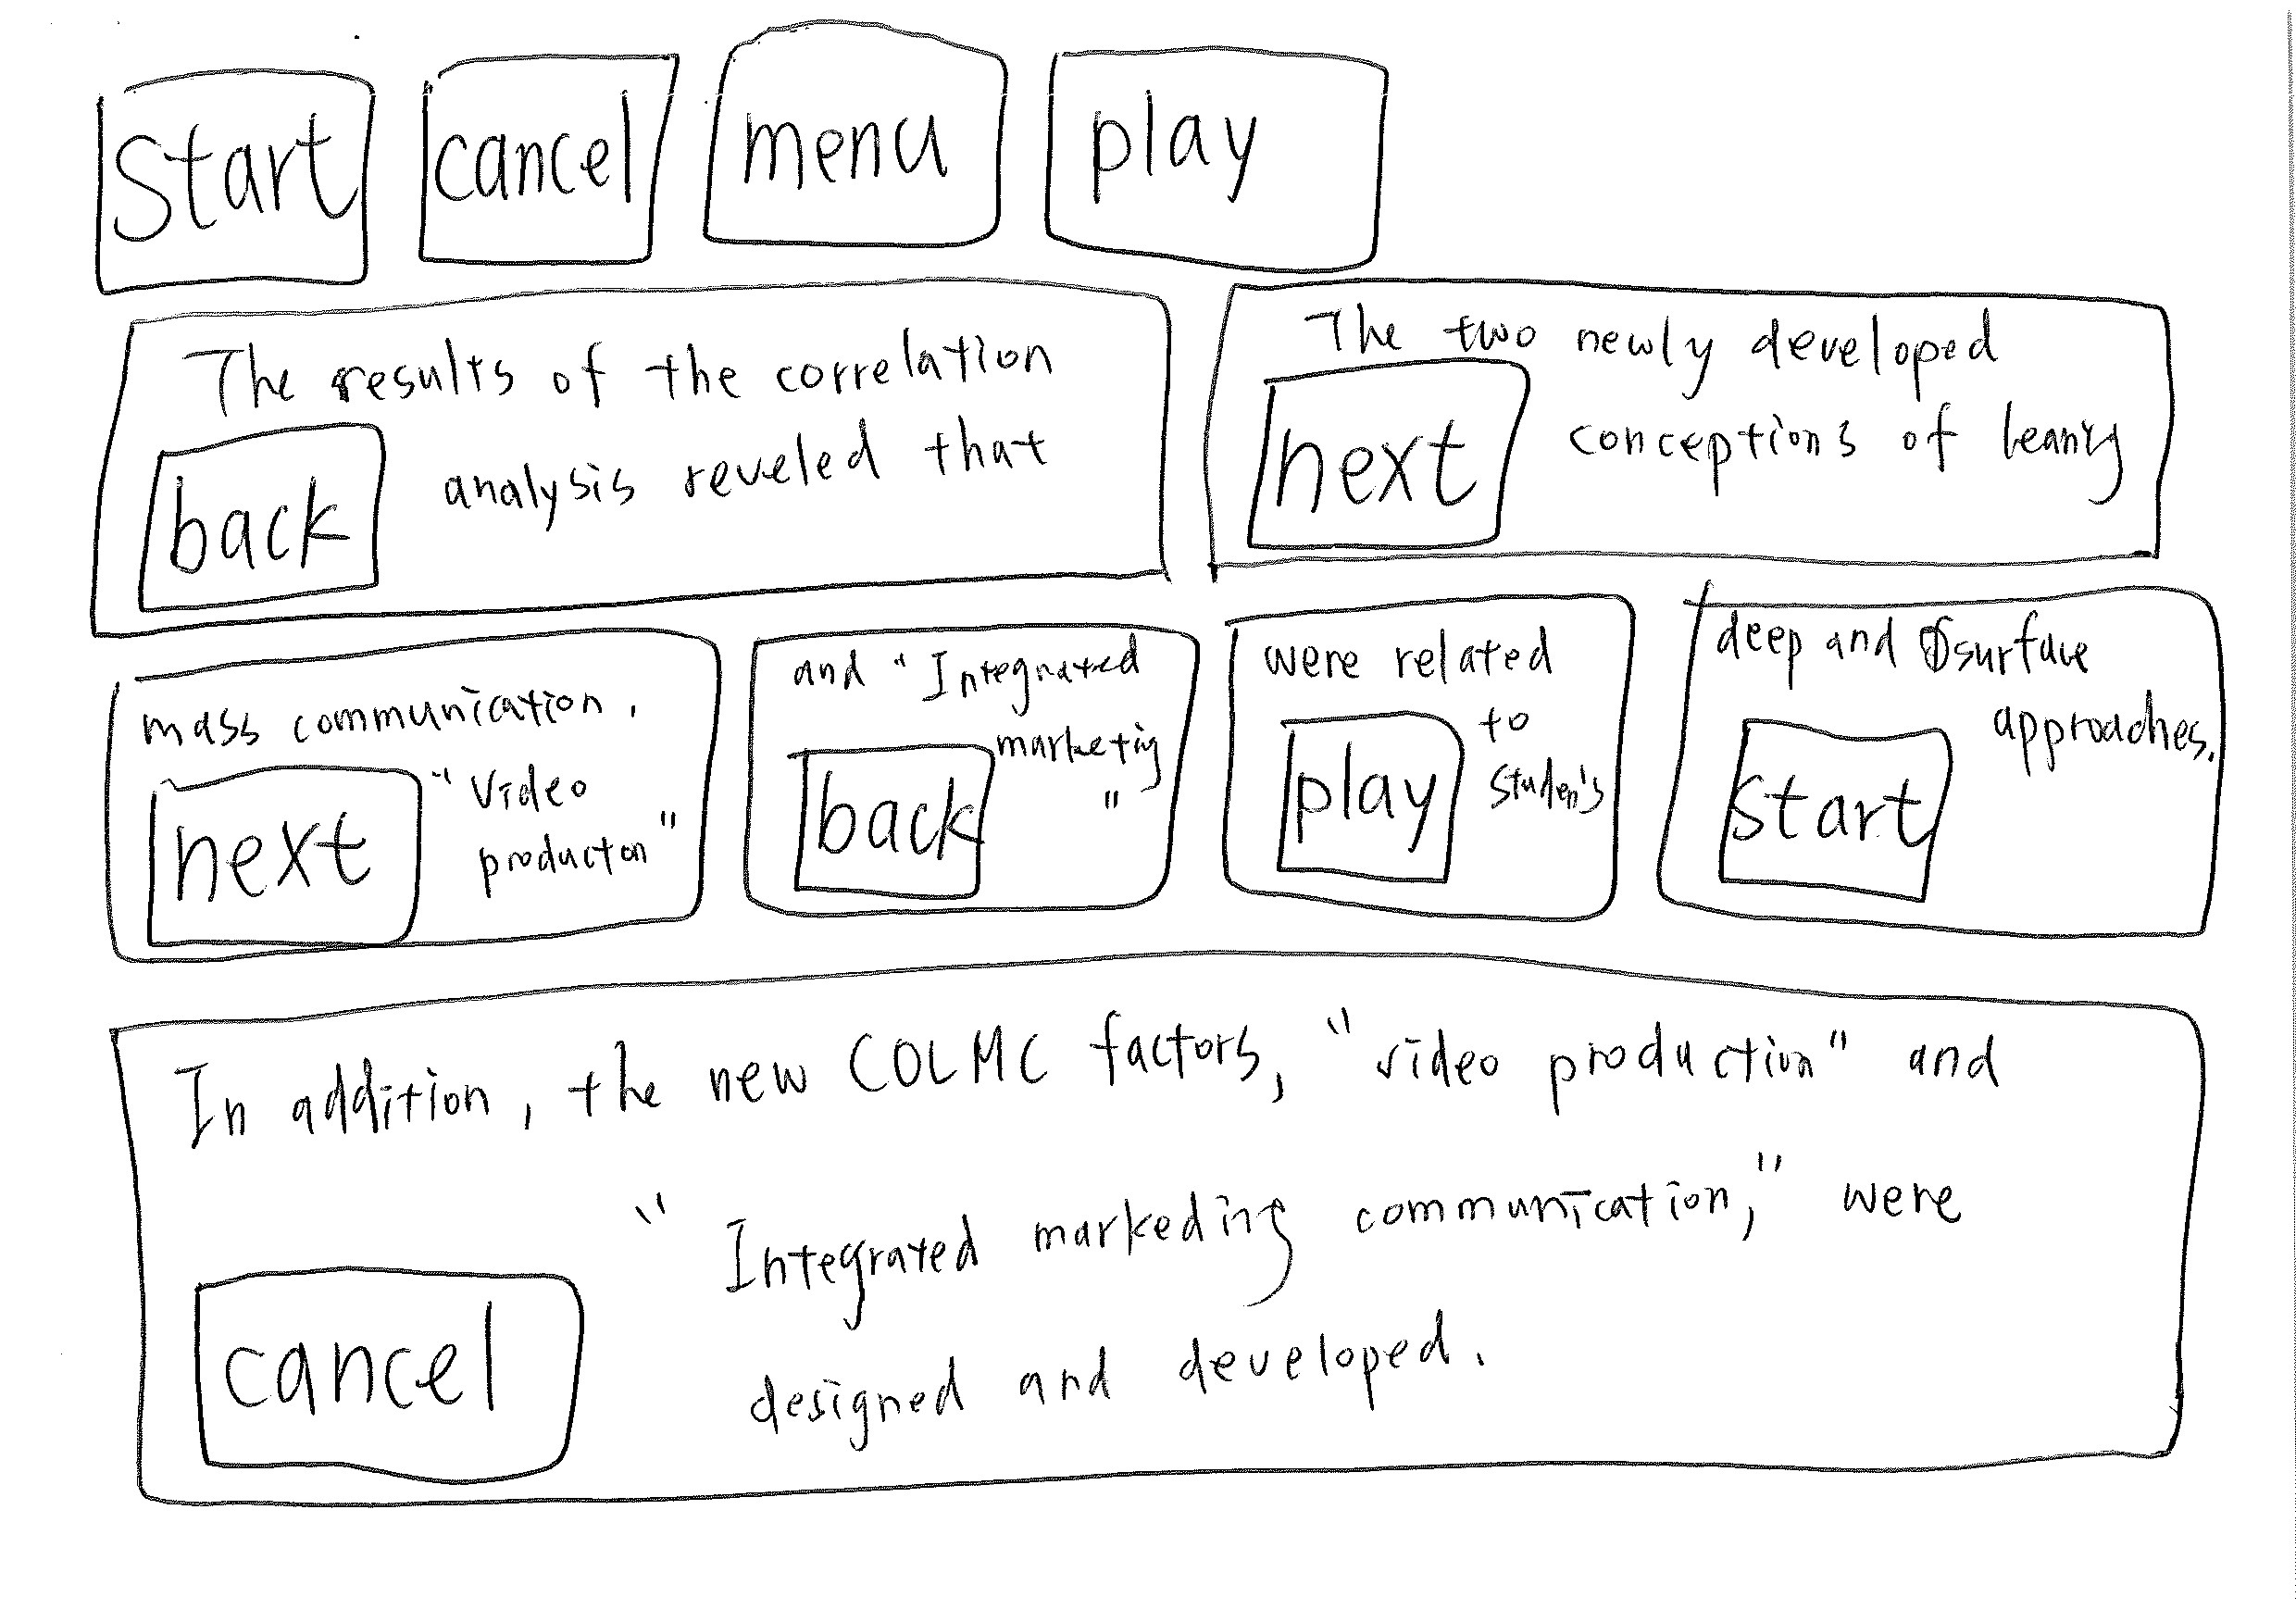back: (125, 418, 411, 620), (774, 718, 1001, 908)
cancel: (167, 1245, 607, 1490), (388, 26, 695, 284)
double: (63, 265, 1209, 657), (1187, 248, 2235, 590)
menu: (683, 14, 1032, 262)
next: (1204, 351, 1557, 560), (126, 755, 444, 953)
play: (1029, 18, 1420, 291), (1255, 702, 1487, 890)
quadruple: (1638, 563, 2271, 965), (68, 620, 737, 987), (730, 602, 1222, 937), (1206, 576, 1647, 944)
row: (32, 920, 2296, 1550), (32, 571, 2296, 983), (32, 272, 2296, 606), (25, 9, 2233, 290)
single: (47, 939, 2294, 1539)
small-title: (165, 1029, 2040, 1146), (193, 332, 1051, 414), (1292, 300, 2034, 363), (146, 678, 642, 739), (1715, 613, 2133, 685), (781, 648, 1150, 702), (1267, 632, 1603, 690)
start: (68, 54, 393, 309), (1701, 690, 1980, 916)
text: (637, 1138, 2017, 1432), (462, 425, 1094, 537), (1601, 390, 2140, 500), (463, 744, 653, 883), (1978, 679, 2205, 778), (1011, 707, 1176, 804), (1494, 681, 1589, 837)
